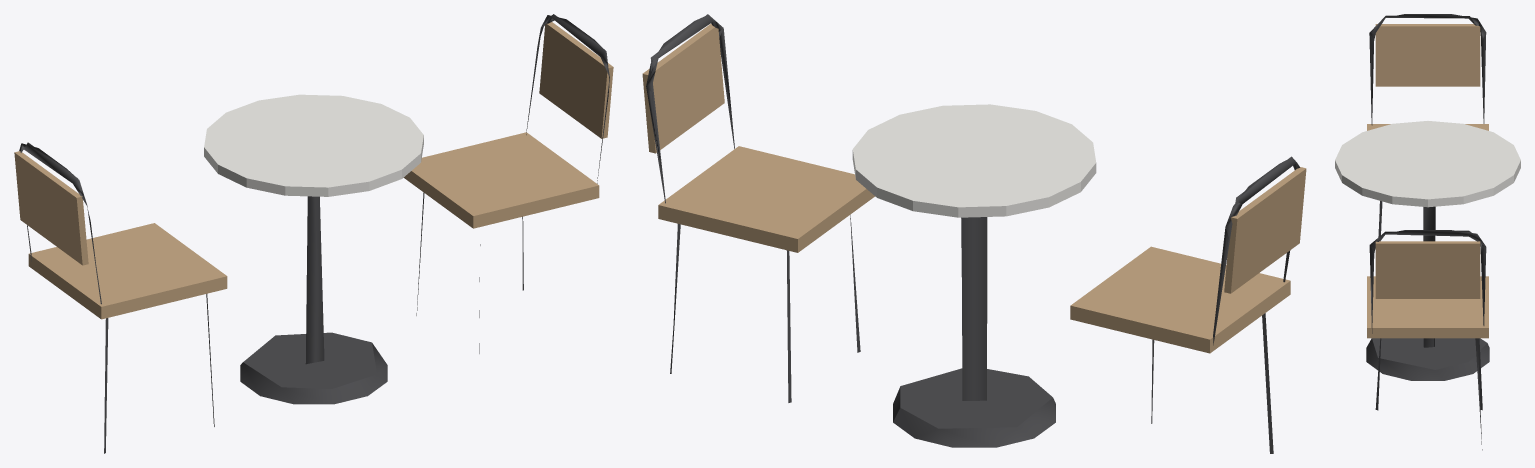
The model's file is cafe-set-lod1.glb.
3 views of the same model, side by side, from view 1: azimuth 30°, elevation 25°; view 2: azimuth 150°, elevation 25°; view 3: azimuth 270°, elevation 25° (orthographic). The views are drawn at different scales.
Parts seen in each view (by area): view 1: cafe-set.001; view 2: cafe-set.001; view 3: cafe-set.001.
Boxes of the visible parts, bbox=[...] form: cafe-set.001: bbox=[14, 14, 613, 453]; cafe-set.001: bbox=[642, 14, 1306, 453]; cafe-set.001: bbox=[1335, 14, 1520, 450].
Size of the model in its own units: 1.79 by 0.8892 by 0.6401.
